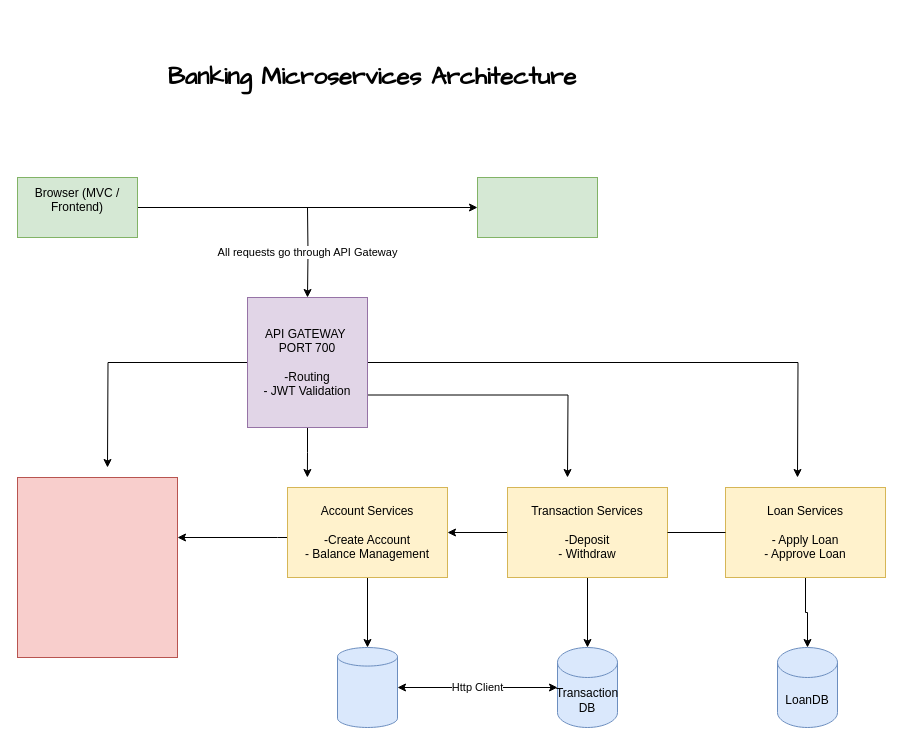
The diagram is 903 pixels wide and 745 high, and some of its shapes have lost their labels. The shapes that lost their labels are listed below. From the top down, each one's centre as x and y in pixels, then its label:
pixel 537 207: Postman / Swagger
pixel 97 567: Auth Service (5001) - Login - JWT Generation Claims---Email,Roles,UserId
pixel 367 687: AccountDB
